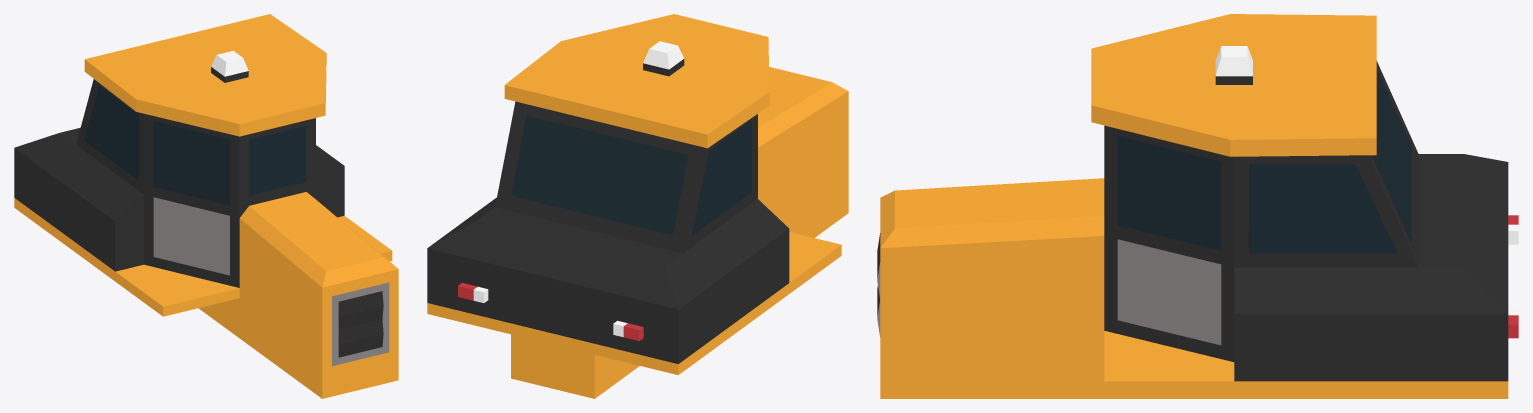
The model's file is bulldozer-base.glb.
The picture shows the model from 3 angles, left to right: view 1: azimuth 30°, elevation 25°; view 2: azimuth 150°, elevation 25°; view 3: azimuth 270°, elevation 25°; orthographic projection. The views are drawn at different scales.
Parts seen in each view (by area): view 1: bulldozer-base; view 2: bulldozer-base; view 3: bulldozer-base.
Part boxes in pixels (x1,y1,x2,y2): bulldozer-base: [14, 14, 398, 398]; bulldozer-base: [427, 14, 848, 398]; bulldozer-base: [877, 14, 1518, 398].
Bounding box in the file's own units: 1.92 × 1.9 × 3.43.
1 material, 1 textured.
